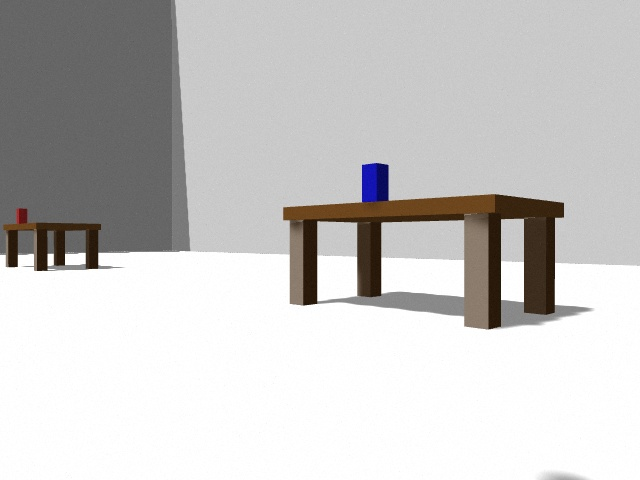blue_cube: (362, 163, 388, 202)
